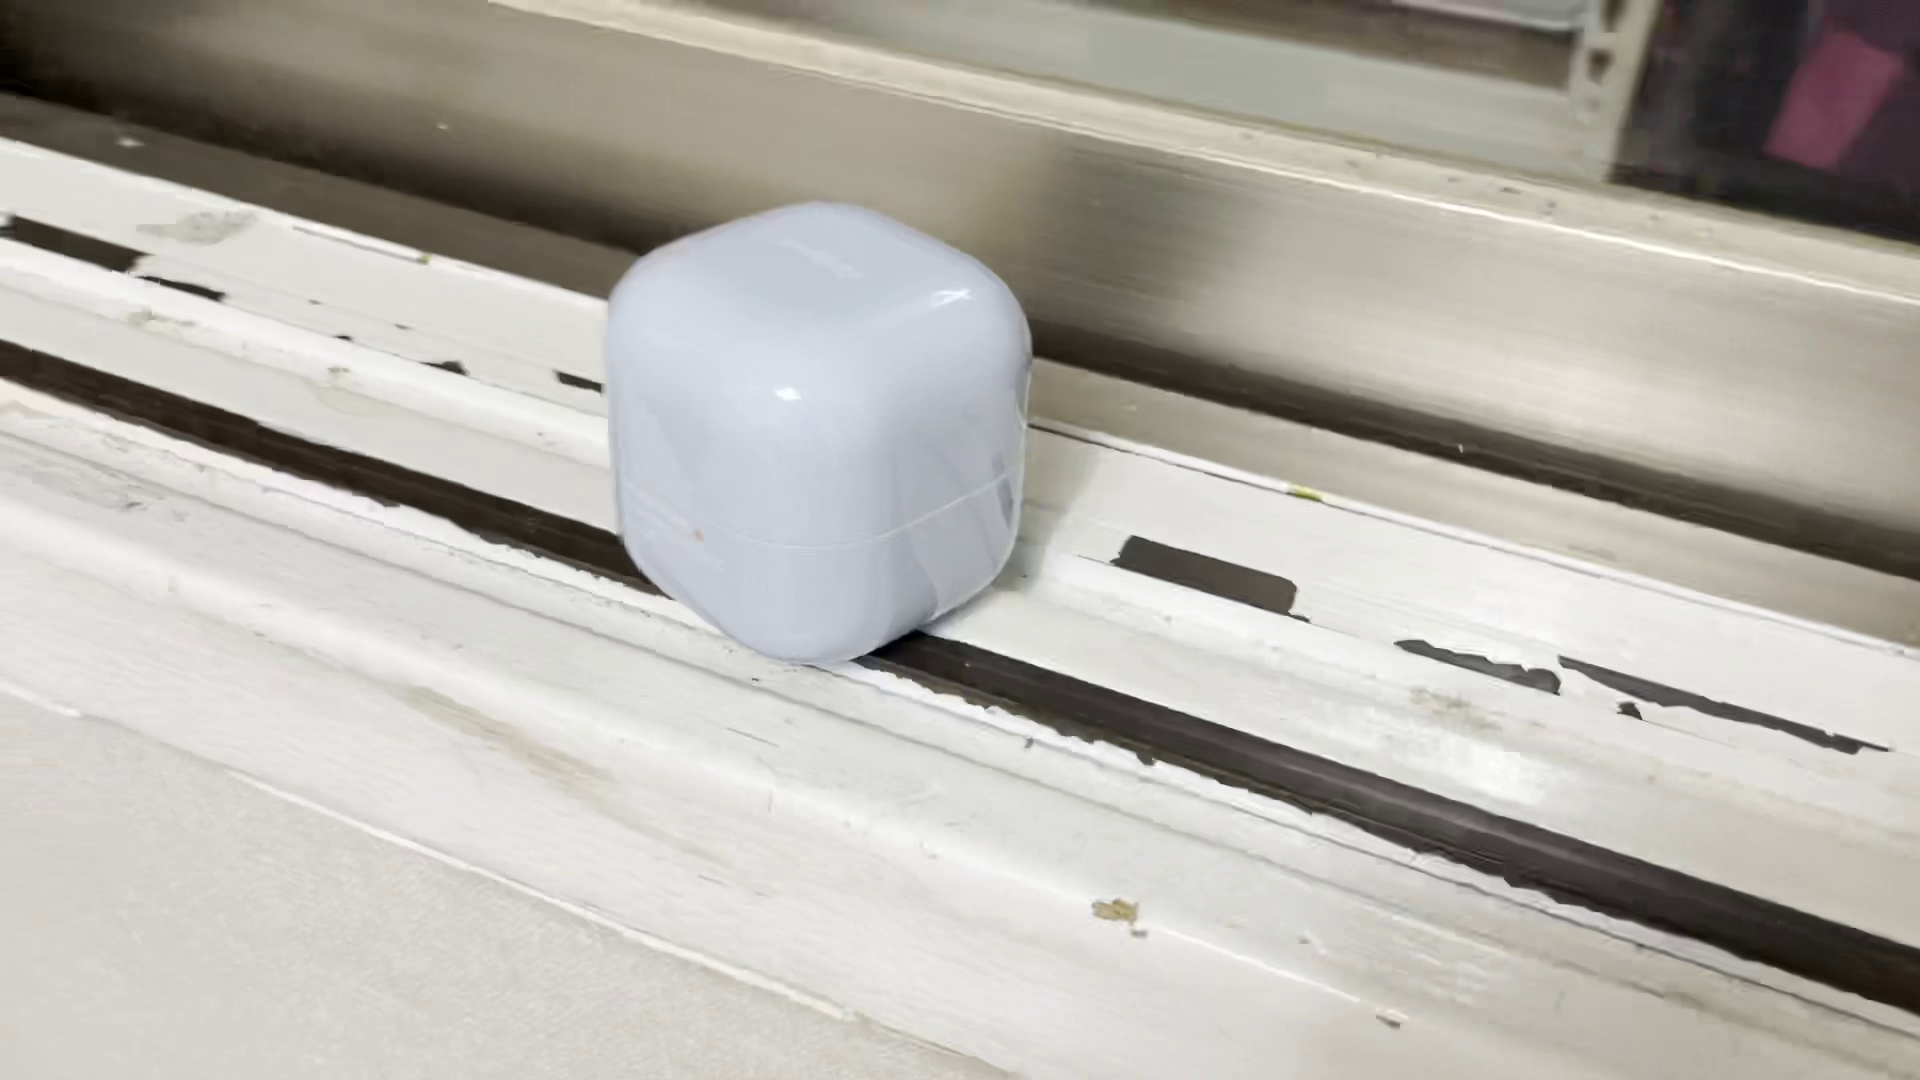cream: (612, 194, 1033, 658)
